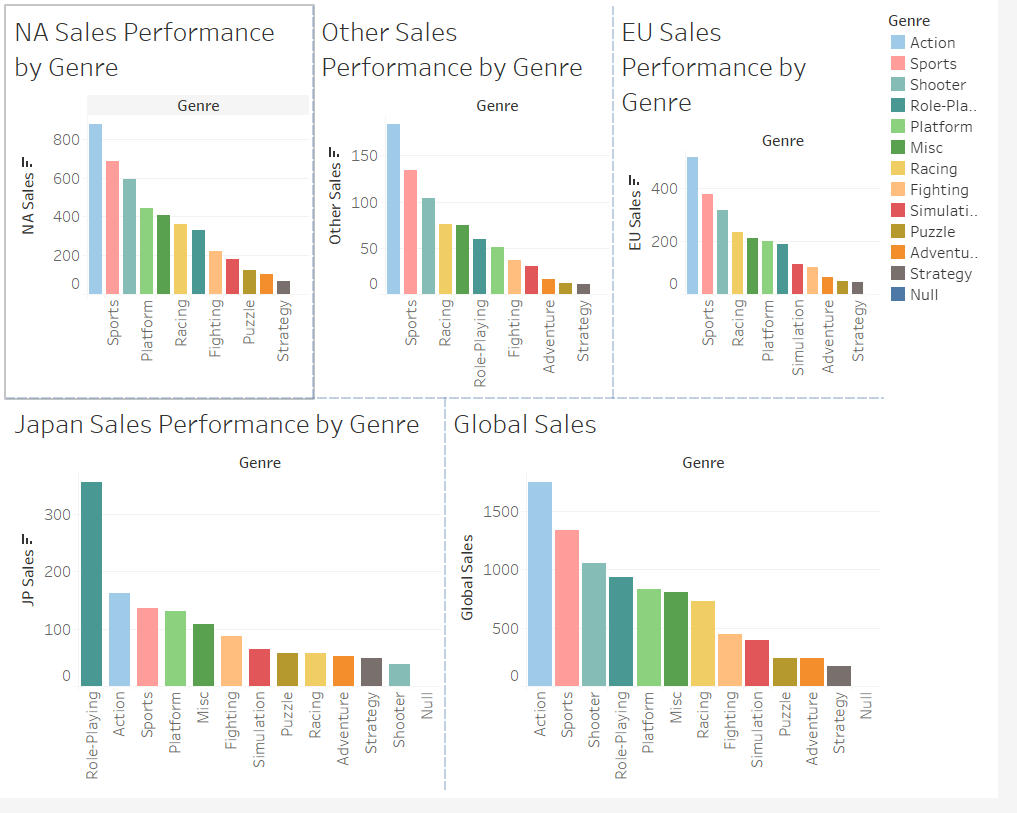

The dashboard page shown, as its layout file describes it:
{"tool":"tableau","page":{"name":"Sales by Genre Dashboard","canvas":[1000,800],"ordinal":0},"visuals":[{"type":"worksheet","title":"NA Sales Performance by Genre","mark":"Automatic","rows":["NA_Sales"],"cols":["Genre"],"box":[8,8,307,392]},{"type":"worksheet","title":"Other Sales Performance by Genre","mark":"Automatic","rows":["Other_Sales"],"cols":["Genre"],"box":[315,8,300,392]},{"type":"worksheet","title":"EU Sales Performance by Genre","mark":"Automatic","rows":["EU_Sales"],"cols":["Genre"],"box":[615,8,271,392]},{"type":"legend","title":"Global Sales Performance by Genre","param":"[federated.07os77c0detoxm1e2ef6e0jwi0ug].[none:Genre:nk]","box":[886,8,106,303]},{"type":"worksheet","title":"Japan Sales Performance by Genre","mark":"Automatic","rows":["JP_Sales"],"cols":["Genre"],"box":[8,400,439,392]},{"type":"worksheet","title":"Global Sales Performance by Genre","mark":"Automatic","rows":["Global_Sales"],"cols":["Genre"],"box":[447,400,439,392]}]}

Visuals, with their boxes in screenshot pixels (x1, y1, x2, y2), scaled from the page's 1000x800 canvas onto the 1017x813 screenshot:
"NA Sales Performance by Genre" worksheet: Rect(8, 8, 320, 407)
"Other Sales Performance by Genre" worksheet: Rect(320, 8, 625, 407)
"EU Sales Performance by Genre" worksheet: Rect(625, 8, 901, 407)
"Global Sales Performance by Genre" legend: Rect(901, 8, 1009, 316)
"Japan Sales Performance by Genre" worksheet: Rect(8, 407, 455, 805)
"Global Sales Performance by Genre" worksheet: Rect(455, 407, 901, 805)
